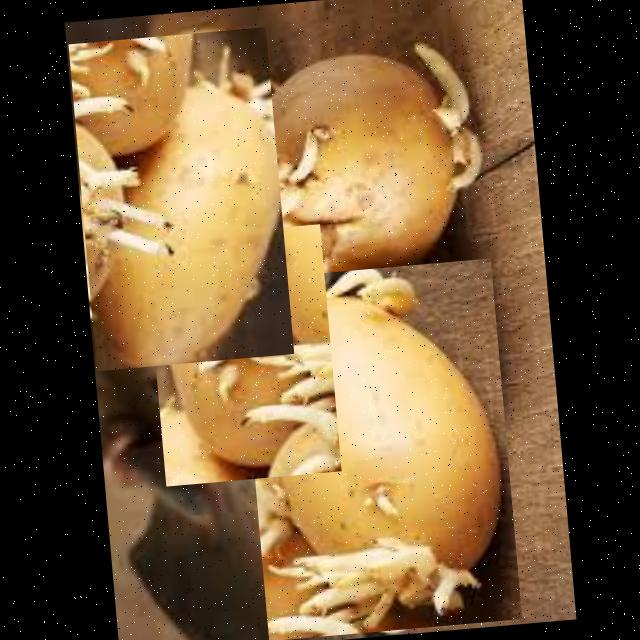Sprouted potato: (237, 257, 522, 640), (179, 19, 516, 323), (68, 26, 294, 370), (144, 223, 341, 485)
